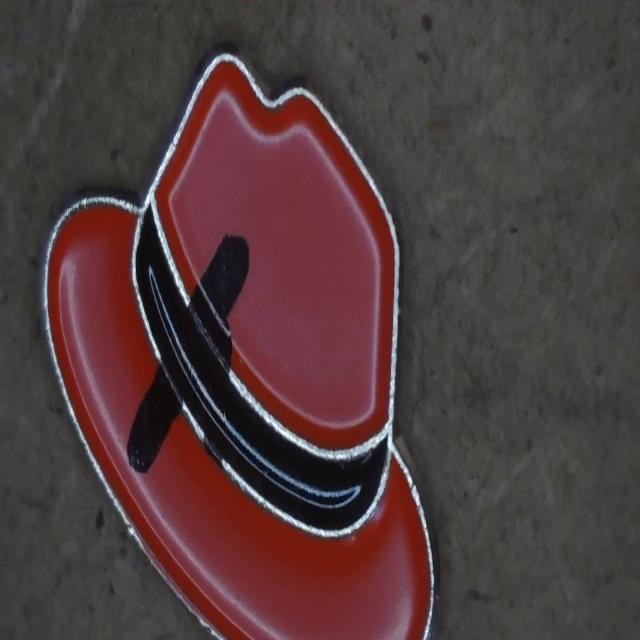Hatband: (136, 211, 390, 530)
Paint_Leak: (190, 233, 249, 363), (126, 364, 181, 471)
RedHatPin: (42, 53, 434, 638)
